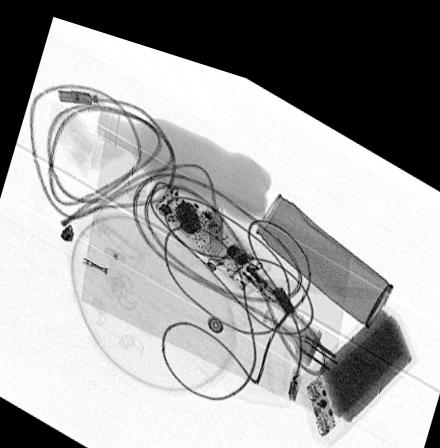Powerbank: (294, 279, 417, 426)
